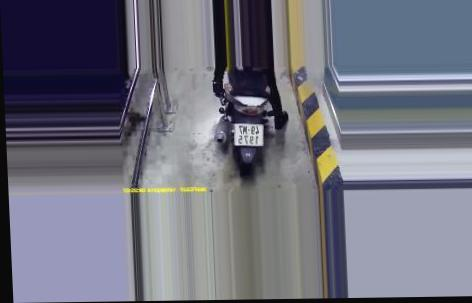License_Plate: (230, 120, 269, 149)
